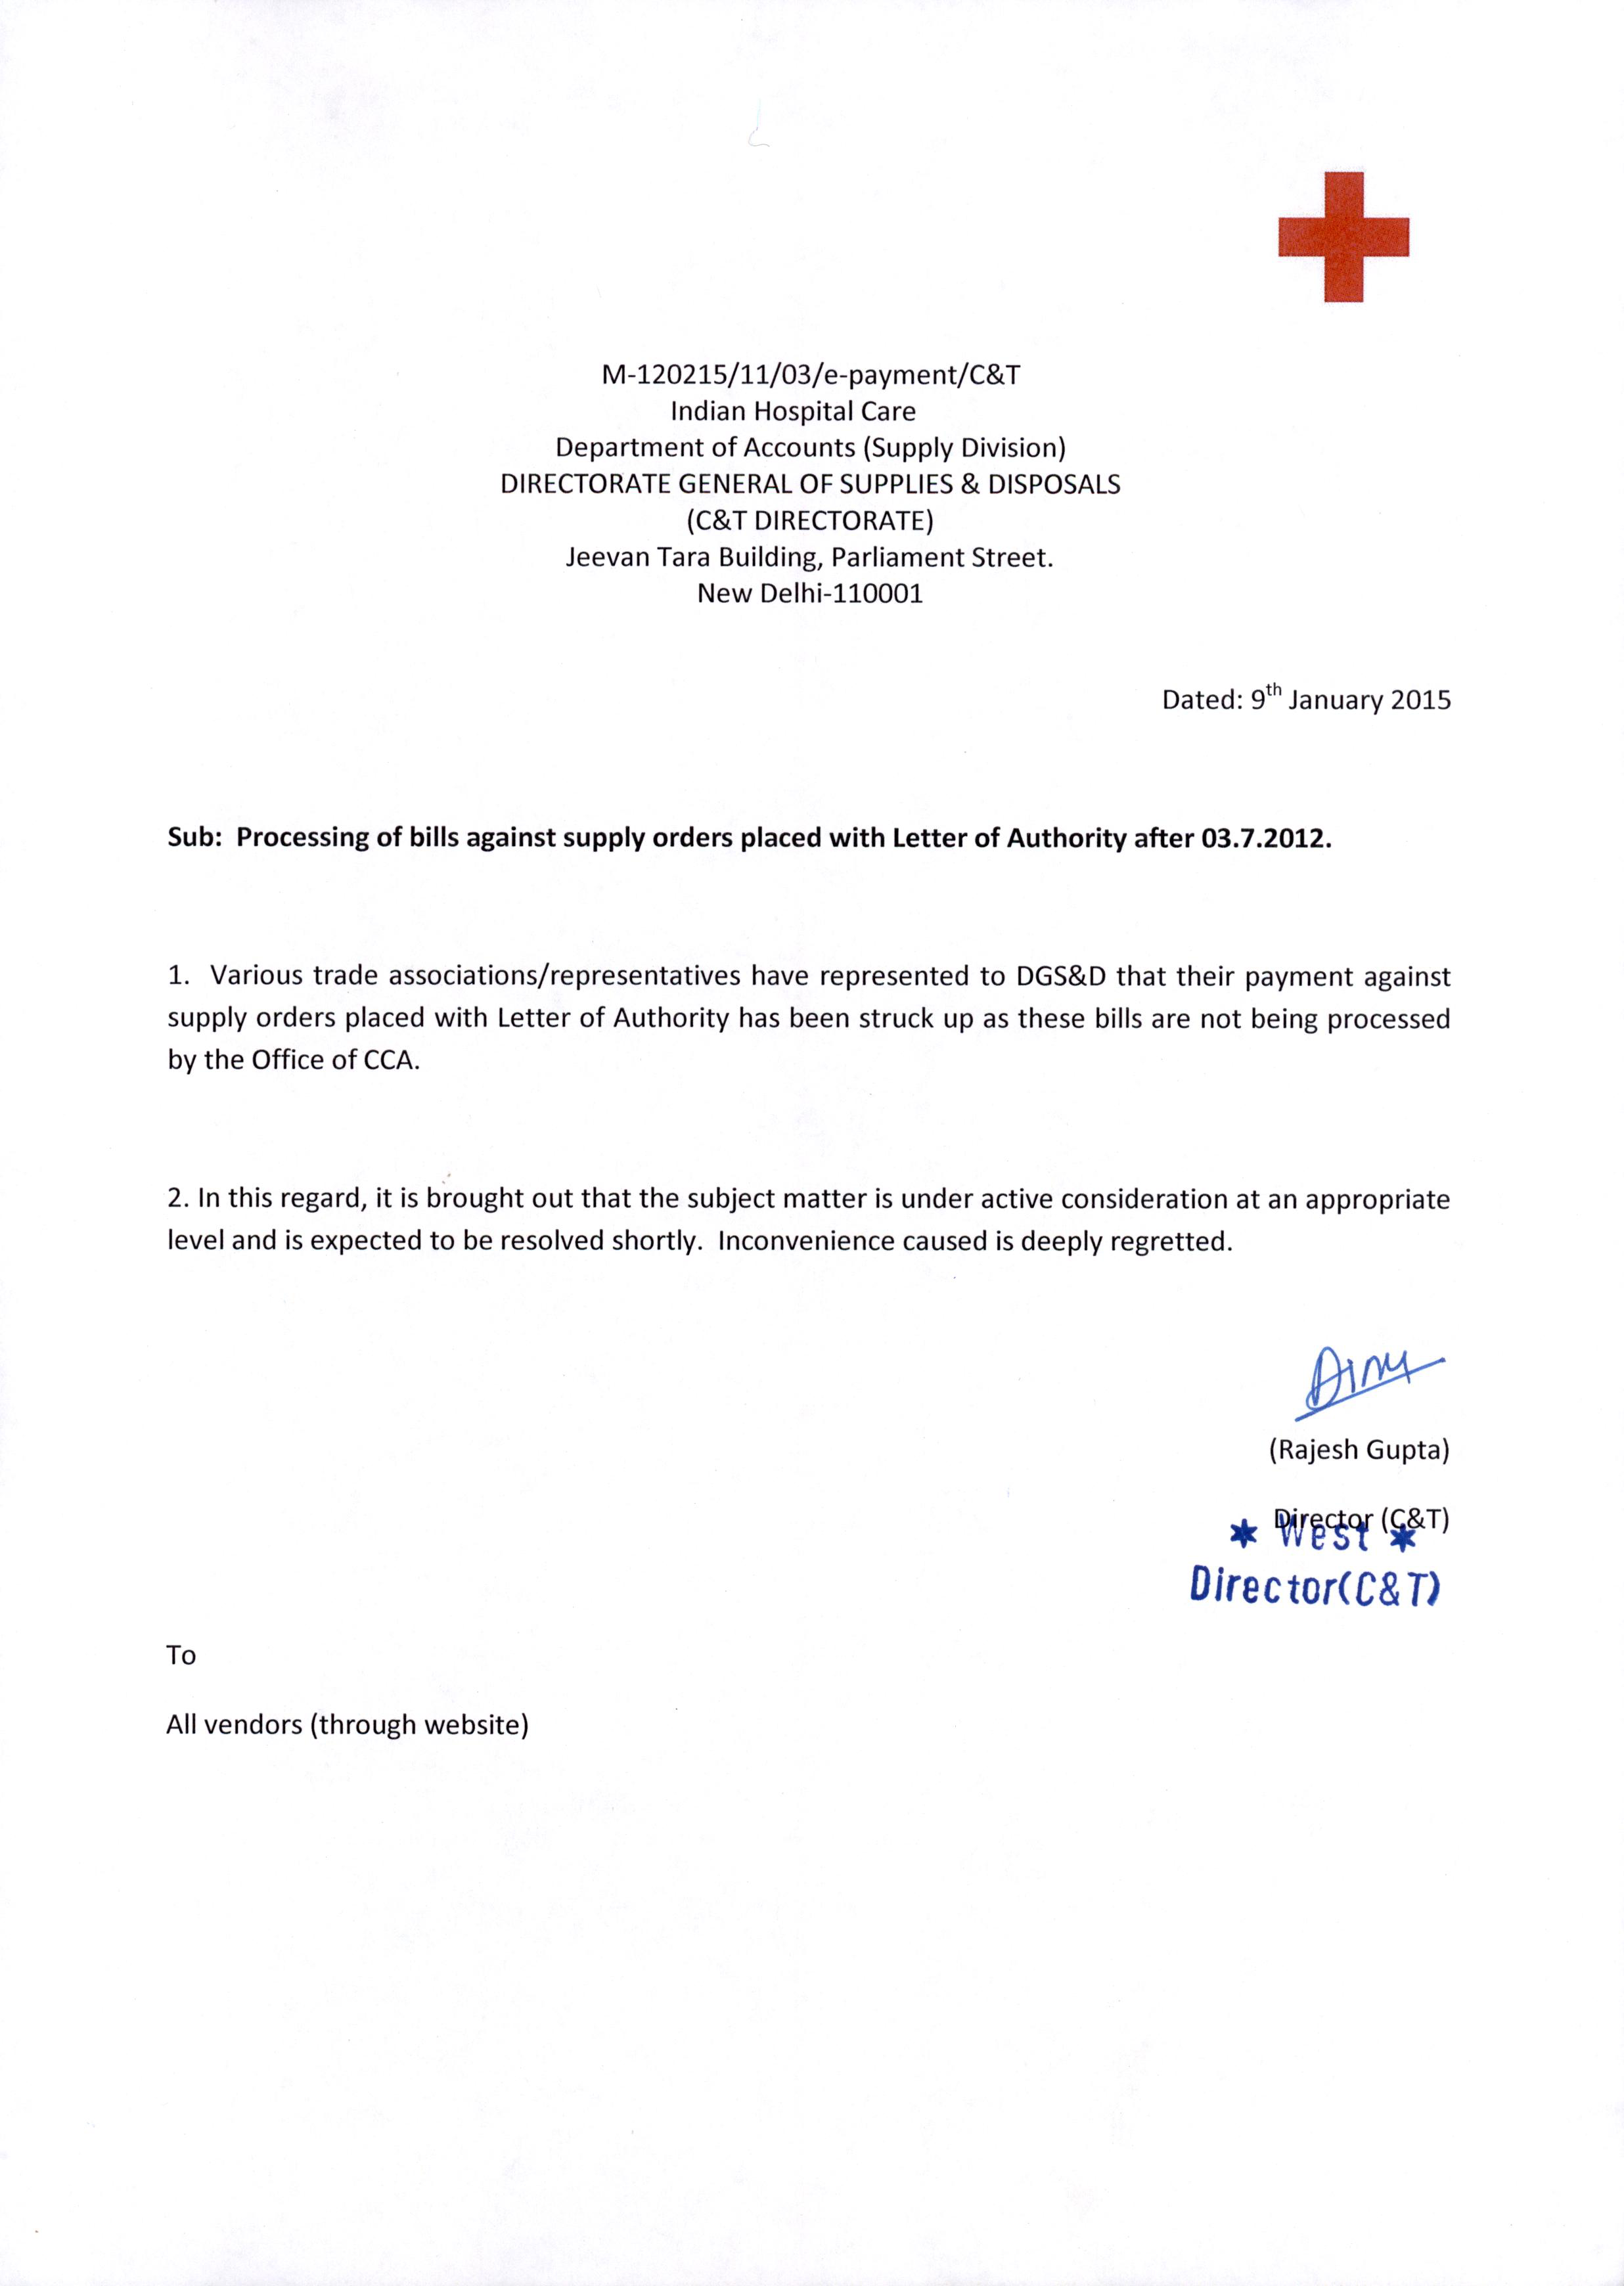Signature: (1281, 1339, 1454, 1427)
